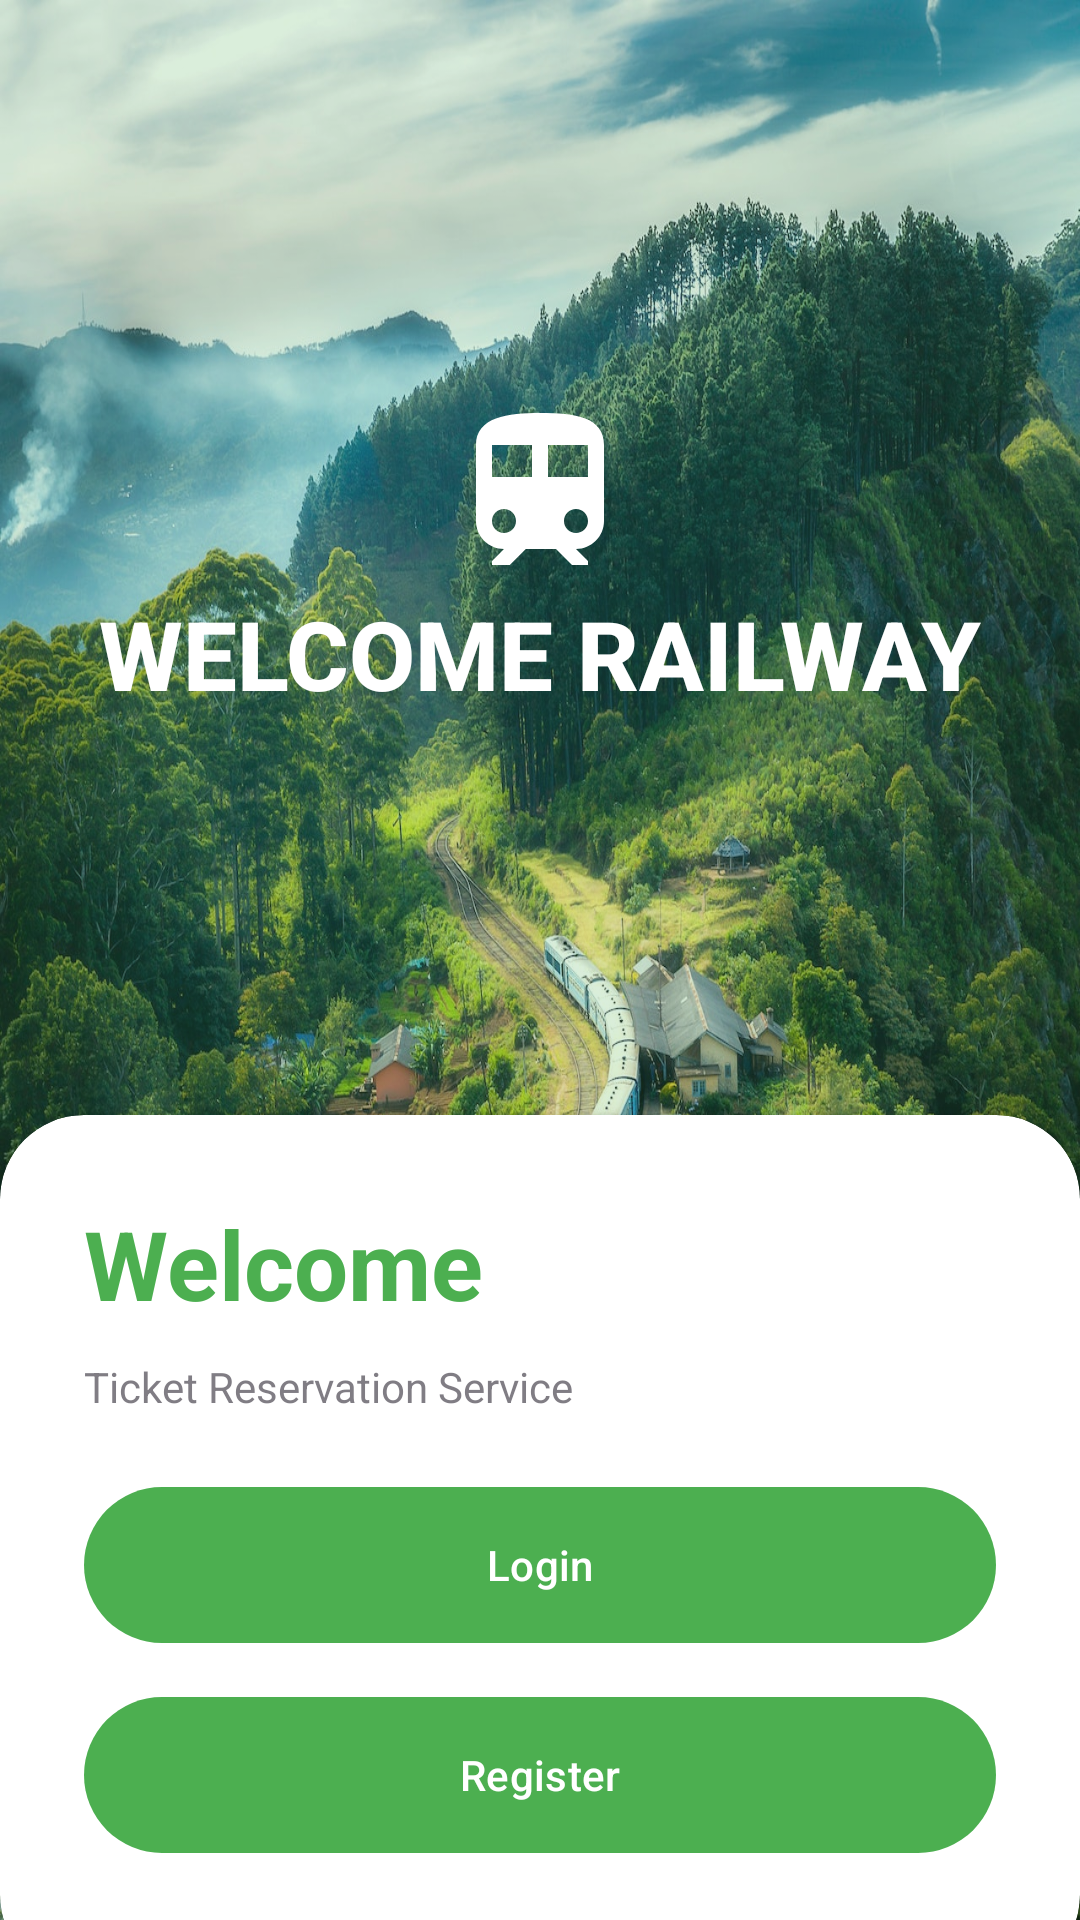

Icons on this 1080px×1920px Android screen, each with the point to tap as point (x, y):
train: point (540, 493)
